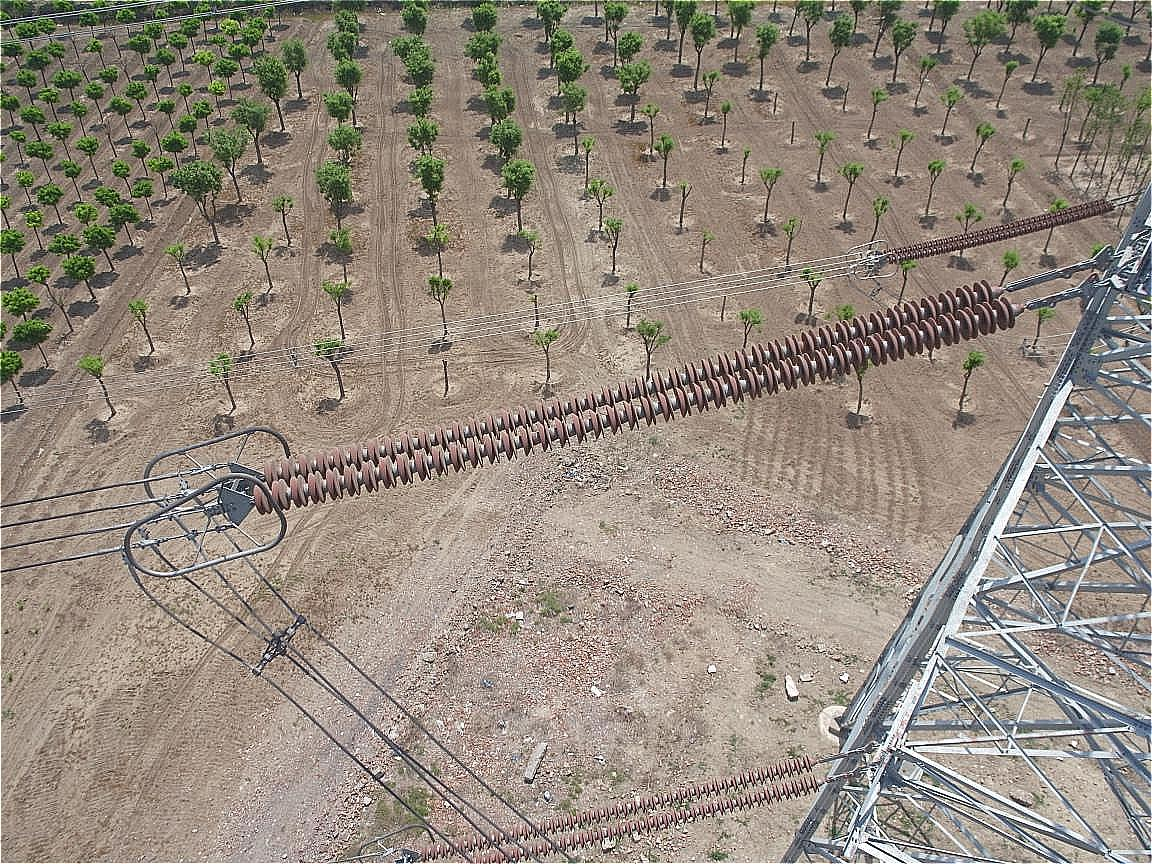insultor2: (222, 266, 1025, 550), (378, 750, 835, 864), (880, 187, 1118, 266)
